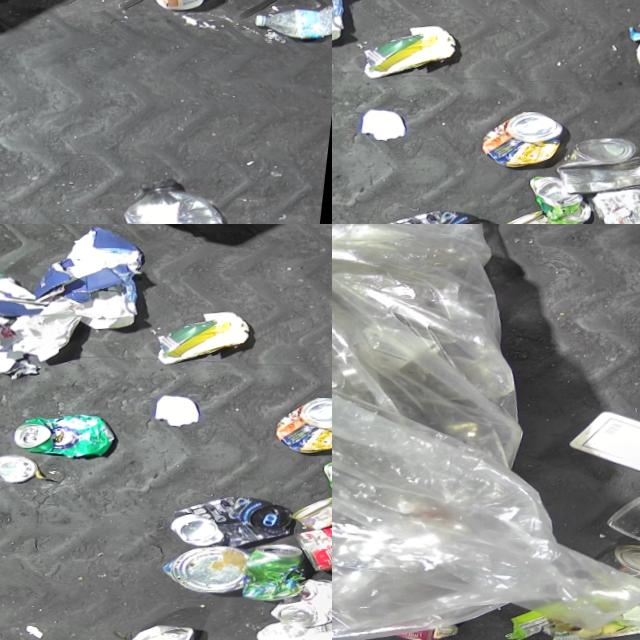can: (174, 493, 302, 550), (557, 133, 640, 197), (483, 109, 571, 169), (15, 411, 123, 458), (167, 543, 258, 594), (249, 540, 318, 599), (529, 174, 602, 224), (277, 395, 332, 454), (276, 575, 332, 627), (596, 542, 640, 605), (298, 508, 332, 575), (594, 176, 640, 224), (379, 207, 507, 224), (127, 622, 205, 640), (0, 453, 44, 483), (297, 493, 332, 530), (503, 207, 566, 224)
milk_jug: (569, 407, 640, 489)
plastic_bottle: (103, 168, 258, 224), (239, 0, 332, 45)
